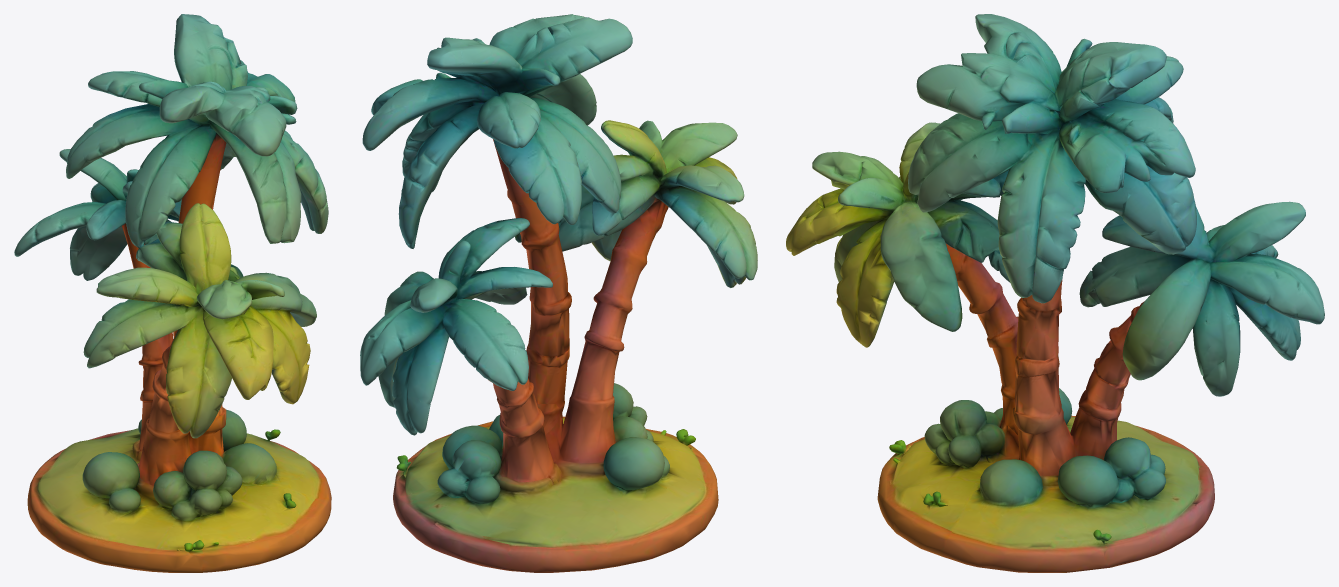
The model's file is palm-cluster-diet.glb.
3 renders of one model, left to right at view 1: azimuth 30°, elevation 25°; view 2: azimuth 150°, elevation 25°; view 3: azimuth 270°, elevation 25°, orthographic. The views are drawn at different scales.
Parts seen in each view (by area): view 1: tripo_node_ccc531fe-ebc8-4a50-ae92-cdd02dfb6496; view 2: tripo_node_ccc531fe-ebc8-4a50-ae92-cdd02dfb6496; view 3: tripo_node_ccc531fe-ebc8-4a50-ae92-cdd02dfb6496.
Part boxes in pixels (x1,y1,x2,y2): tripo_node_ccc531fe-ebc8-4a50-ae92-cdd02dfb6496: [14, 14, 331, 572]; tripo_node_ccc531fe-ebc8-4a50-ae92-cdd02dfb6496: [360, 14, 757, 572]; tripo_node_ccc531fe-ebc8-4a50-ae92-cdd02dfb6496: [786, 14, 1324, 572].
Bounding box in the file's own units: 0.6529 × 0.9986 × 0.9991.
1 material, 1 textured.
